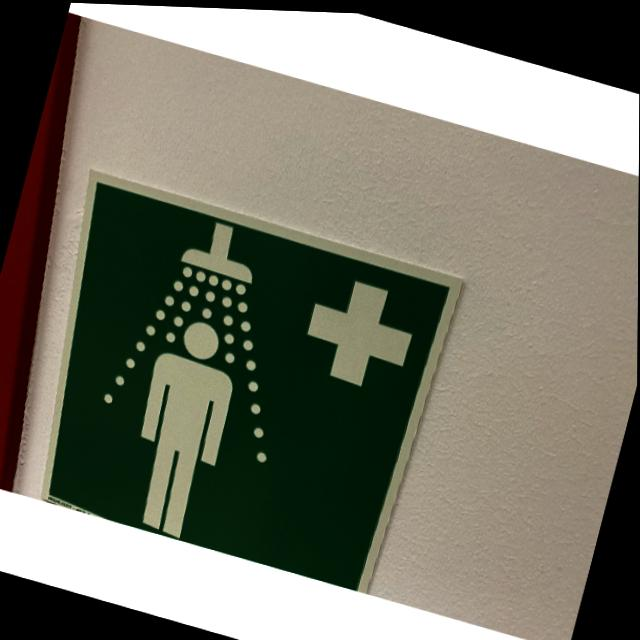shower: (5, 164, 466, 597)
